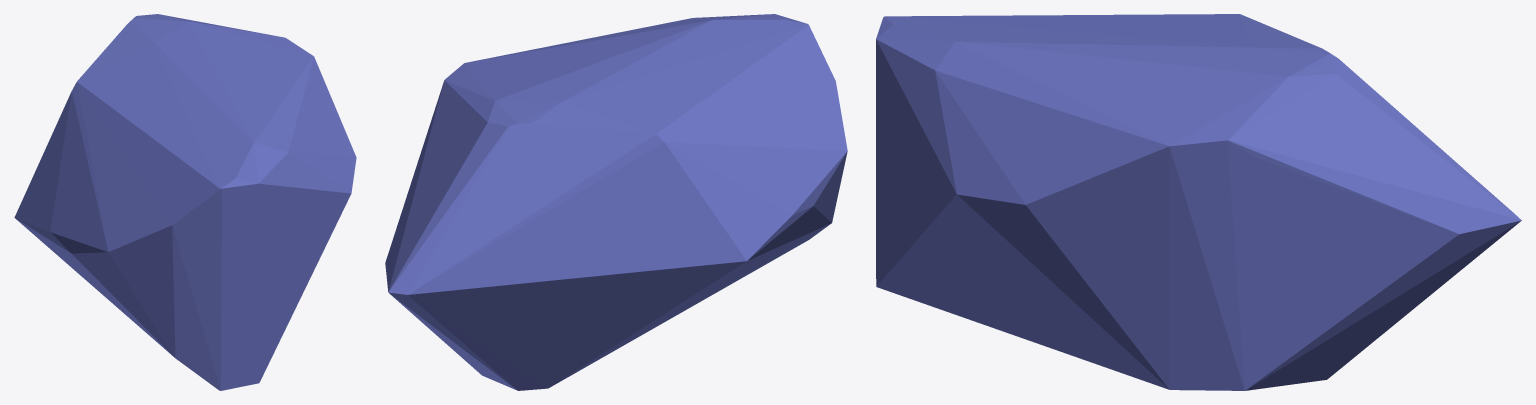
The model's file is serviceTool_ac_recharge_recovery_machine_b01.glb.
The picture shows the model from 3 angles, left to right: view 1: azimuth 30°, elevation 25°; view 2: azimuth 150°, elevation 25°; view 3: azimuth 270°, elevation 25°; orthographic projection. The views are drawn at different scales.
Visible parts, largest first — view 1: geometry_0; view 2: geometry_0; view 3: geometry_0.
Boxes of the visible parts, <box> form: geometry_0: <box>14,14,356,390</box>; geometry_0: <box>385,14,847,390</box>; geometry_0: <box>876,14,1521,390</box>.
Bounding box in the file's own units: 0.3033 × 0.2543 × 0.4786.
